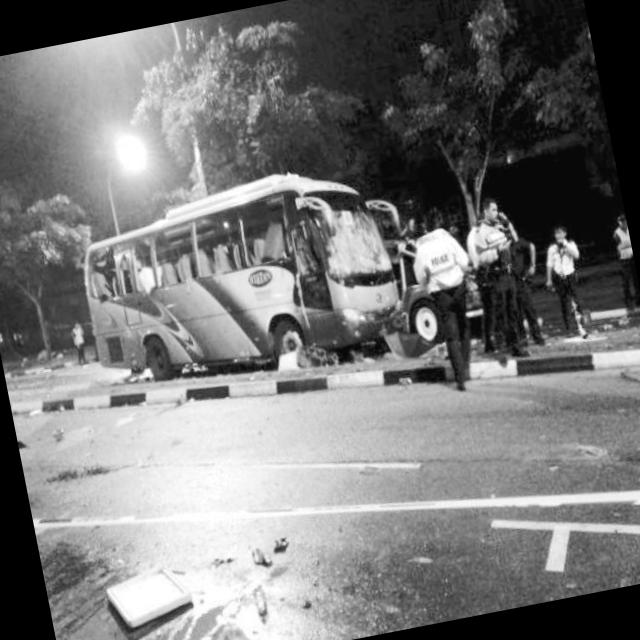Bus: (68, 171, 418, 408)
